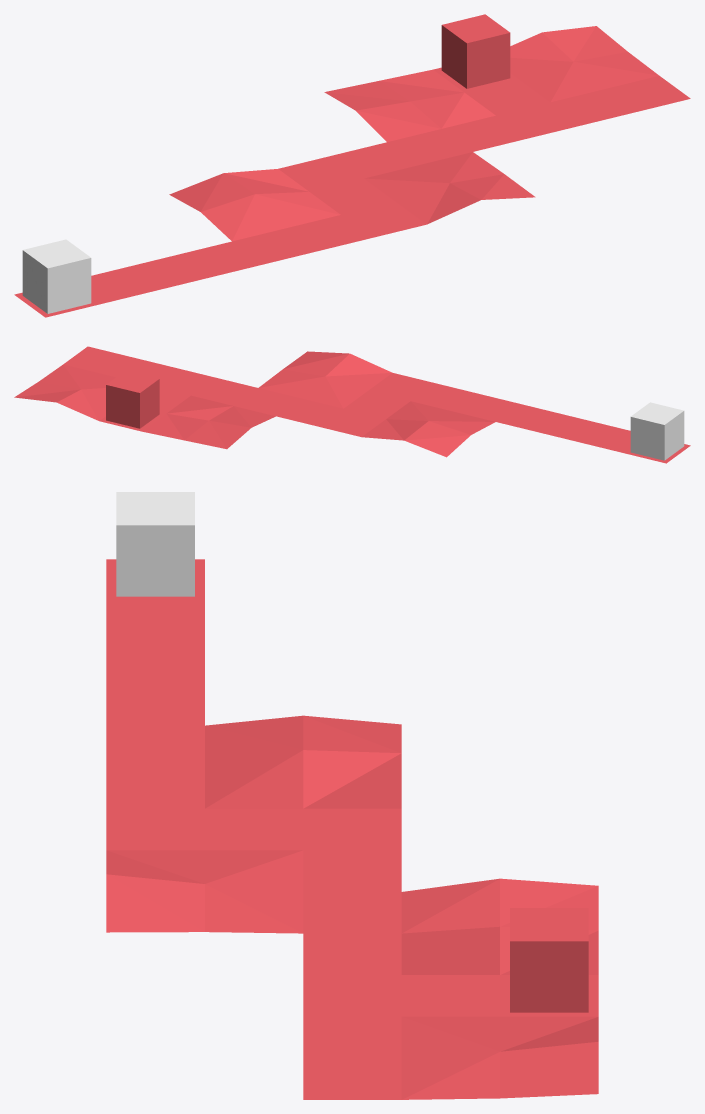
Rendered from Tutorial.dae.
The picture shows the model from 3 angles, top to bottom: view 1: azimuth 30°, elevation 25°; view 2: azimuth 150°, elevation 25°; view 3: azimuth 270°, elevation 25°; orthographic projection. The views are drawn at different scales.
Visible parts, largest first — view 1: Surface2, Surface3, Surface1, Enemy0, Blocky; view 2: Surface2, Surface3, Surface1, Blocky, Enemy0; view 3: Surface2, Surface3, Surface1, Blocky, Enemy0.
Part boxes in pixels (x1,y1,x2,y2): Surface2: (169,129,535,250); Surface3: (324,26,690,151); Surface1: (14,228,317,317); Enemy0: (441,14,510,88); Blocky: (22,239,91,313); Surface2: (234,351,495,457); Surface3: (14,346,275,449); Surface1: (453,393,690,463); Blocky: (630,402,684,460); Enemy0: (106,370,159,428); Surface2: (106,715,401,933); Surface3: (303,878,598,1099); Surface1: (106,559,204,767); Blocky: (116,492,194,596); Enemy0: (510,908,588,1012).
Size of the model in its own units: 13 by 5 by 0.8.
